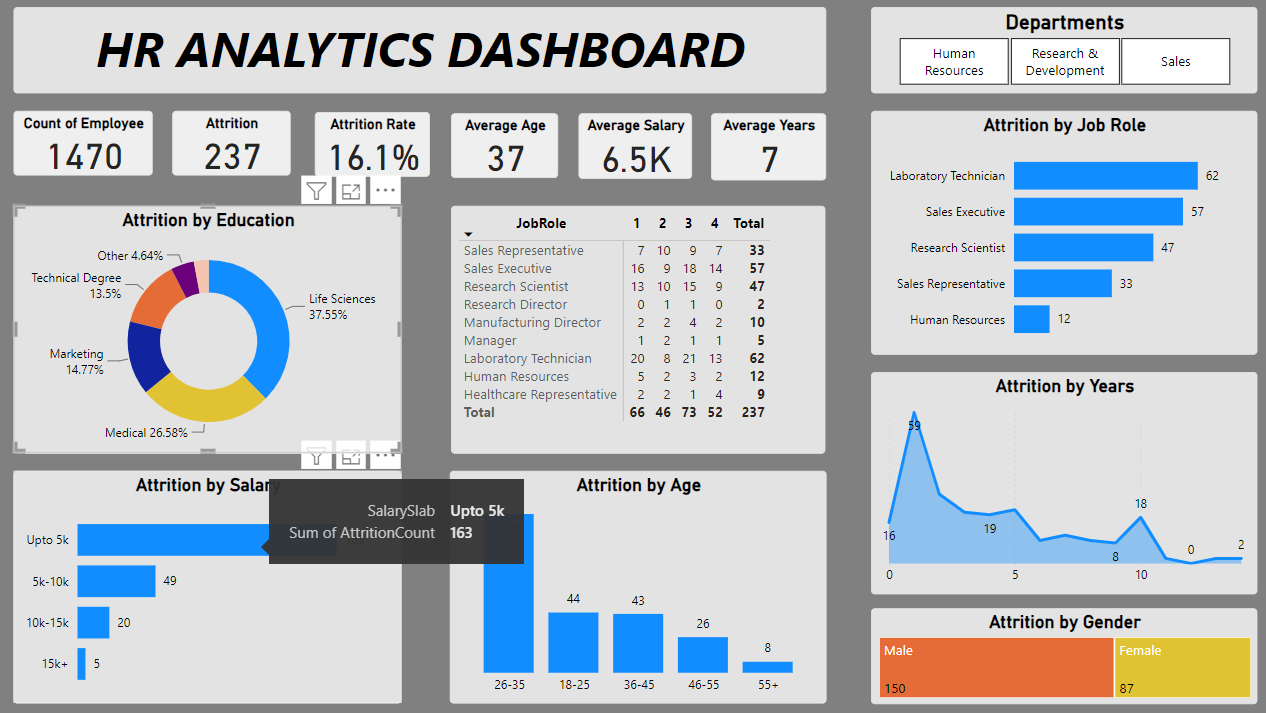

What the dashboard file says about the page in this screenshot:
{"tool":"powerbi","page":{"name":"Page 1","canvas":[1280,720],"ordinal":0},"visuals":[{"type":"card","title":"Count of Employee","fields":{"Values":["CountNonNull(HR_Analytics.EmpID)"]},"box":[17,113.8,139.4,64.9],"z":0},{"type":"card","title":"Attrition","fields":{"Values":["Sum(HR_Analytics.AttritionCount)"]},"box":[176.6,113.8,118.1,64.9],"z":1000},{"type":"card","title":"Attrition Rate","fields":{"Values":["HR_Analytics.AttritionRate"]},"box":[319.1,114.9,114.9,64.9],"z":2000},{"type":"card","title":"Average Age ","fields":{"Values":["Avg(HR_Analytics.Age)"]},"box":[455.3,116,107.4,64.9],"z":3000},{"type":"card","title":"Average Salary","fields":{"Values":["Avg(HR_Analytics.MonthlyIncome)"]},"box":[583,116,113.8,66],"z":4000},{"type":"card","title":"Average Years ","fields":{"Values":["Avg(HR_Analytics.YearsAtCompany)"]},"box":[714.9,116,114.9,67],"z":5000},{"type":"donutChart","title":"Attrition by Education","fields":{"Category":["HR_Analytics.EducationField"],"Y":["Sum(HR_Analytics.AttritionCount)"]},"box":[17,208.5,388.3,247.9],"z":6000},{"type":"columnChart","title":"Attrition by Age","fields":{"Category":["HR_Analytics.AgeGroup"],"Y":["Sum(HR_Analytics.AttritionCount)"]},"box":[453.2,473.4,376.6,233],"z":7000},{"type":"pivotTable","fields":{"Rows":["HR_Analytics.JobRole"],"Columns":["HR_Analytics.JobSatisfaction"],"Values":["Sum(HR_Analytics.AttritionCount)"]},"box":[455.3,208.5,374.5,247.9],"z":8000},{"type":"barChart","title":"Attrition by Salary","fields":{"Category":["HR_Analytics.SalarySlab"],"Y":["Sum(HR_Analytics.AttritionCount)"]},"box":[17,473.4,388.3,233],"z":9000},{"type":"barChart","title":"Attrition by Job Role","fields":{"Category":["HR_Analytics.JobRole"],"Y":["Sum(HR_Analytics.AttritionCount)"]},"box":[875.5,113.8,386.2,243.6],"z":10000},{"type":"areaChart","title":"Attrition by Years","fields":{"Category":["HR_Analytics.YearsAtCompany"],"Y":["Sum(HR_Analytics.AttritionCount)"]},"box":[875,375,386.2,222.5],"z":11000},{"type":"treemap","title":"Attrition by Gender","fields":{"Group":["HR_Analytics.Gender"],"Values":["Sum(HR_Analytics.AttritionCount)"]},"box":[875.5,610.6,386.2,95.7],"z":12000},{"type":"slicer","title":"Departments","fields":{"Values":["HR_Analytics.Department"]},"box":[875.5,9.6,386.2,86.2],"z":13000},{"type":"textbox","box":[17,9.6,812.8,86.2],"z":14000}]}

Visuals, with their boxes in screenshot pixels (x1, y1, x2, y2), scaled from the page's 1280x720 canvas onto the 1266x713 screenshot:
"Count of Employee" card: <bbox>17, 113, 155, 177</bbox>
"Attrition" card: <bbox>175, 113, 291, 177</bbox>
"Attrition Rate" card: <bbox>316, 114, 429, 178</bbox>
"Average Age " card: <bbox>450, 115, 557, 179</bbox>
"Average Salary" card: <bbox>577, 115, 689, 180</bbox>
"Average Years " card: <bbox>707, 115, 821, 181</bbox>
"Attrition by Education" donutChart: <bbox>17, 206, 401, 452</bbox>
"Attrition by Age" columnChart: <bbox>448, 469, 821, 700</bbox>
pivotTable - HR_Analytics.JobRole x HR_Analytics.JobSatisfaction: <bbox>450, 206, 821, 452</bbox>
"Attrition by Salary" barChart: <bbox>17, 469, 401, 700</bbox>
"Attrition by Job Role" barChart: <bbox>866, 113, 1248, 354</bbox>
"Attrition by Years" areaChart: <bbox>865, 371, 1247, 592</bbox>
"Attrition by Gender" treemap: <bbox>866, 605, 1248, 699</bbox>
"Departments" slicer: <bbox>866, 10, 1248, 95</bbox>
textbox: <bbox>17, 10, 821, 95</bbox>
